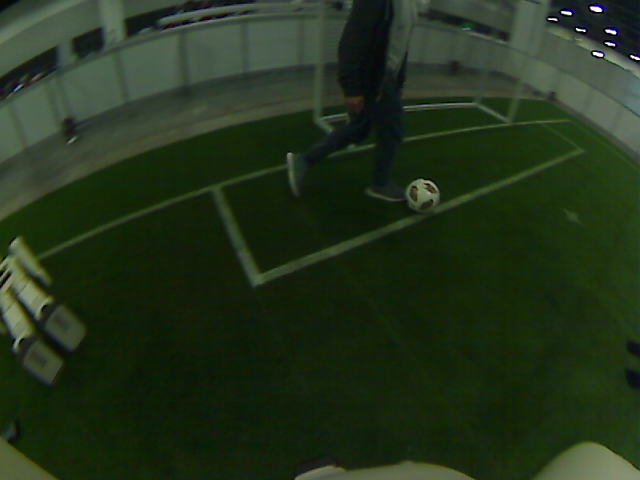ball: (402, 177, 440, 217)
goalpost: (491, 64, 531, 124)
robot: (38, 253, 92, 354)
